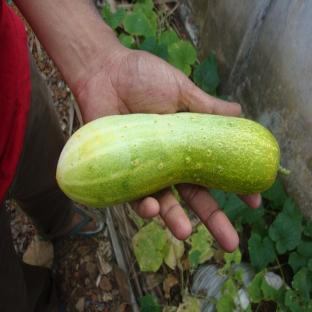Cucumber: (57, 113, 279, 207)
